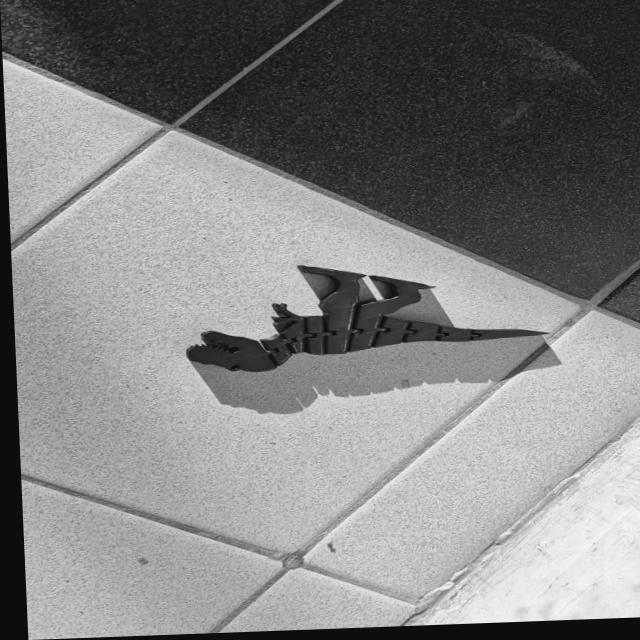dino: (180, 256, 553, 375)
